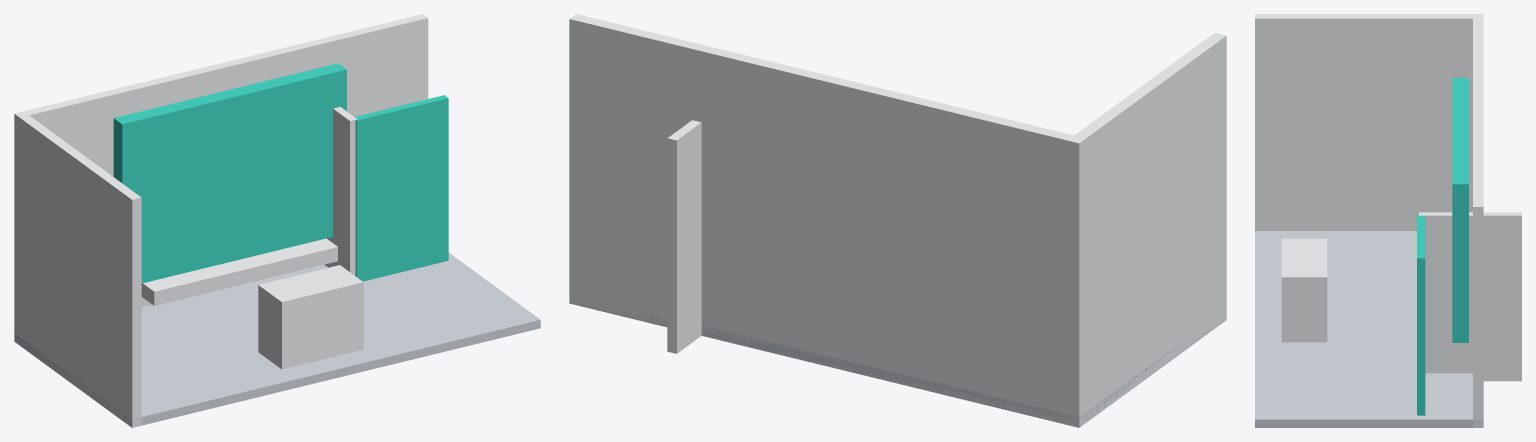
The picture shows the model from 3 angles, left to right: view 1: azimuth 30°, elevation 25°; view 2: azimuth 150°, elevation 25°; view 3: azimuth 270°, elevation 25°; orthographic projection. The views are drawn at different scales.
Visible parts, largest first — view 1: Exhibition Booth Concept; view 2: Exhibition Booth Concept; view 3: Exhibition Booth Concept.
Part boxes in pixels (x1,y1,x2,y2): Exhibition Booth Concept: (14,14,540,427); Exhibition Booth Concept: (569,14,1226,427); Exhibition Booth Concept: (1255,14,1521,427).
Size of the model in its own units: 6 by 3.2 by 3.51.
